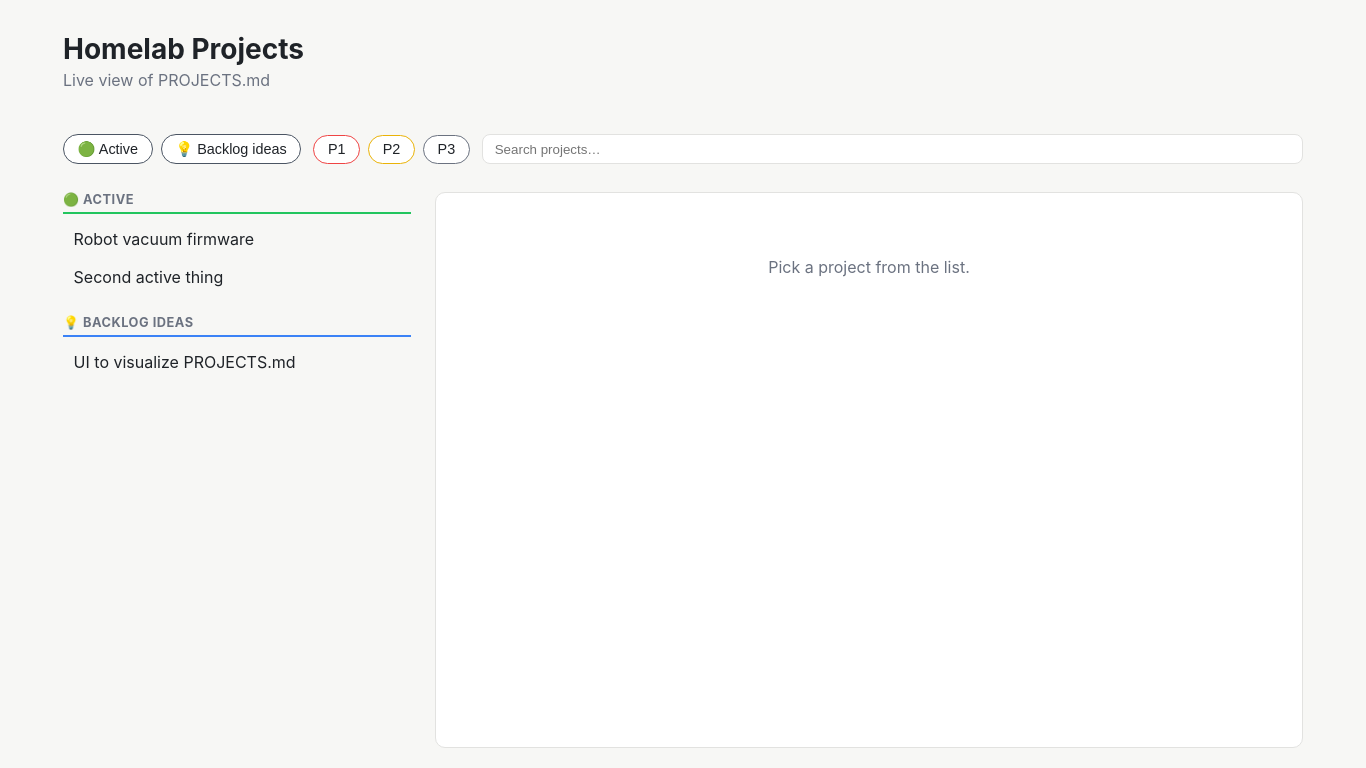
App › hides a status section entirely when its chip is toggled off
The width and height of the screenshot is (1366, 768).
Check: the text "Robot vacuum firmware" is shown, box [74,229,254,249]
Click the button "💡 Backlog ideas": x=231, y=149 [161,134,301,164]
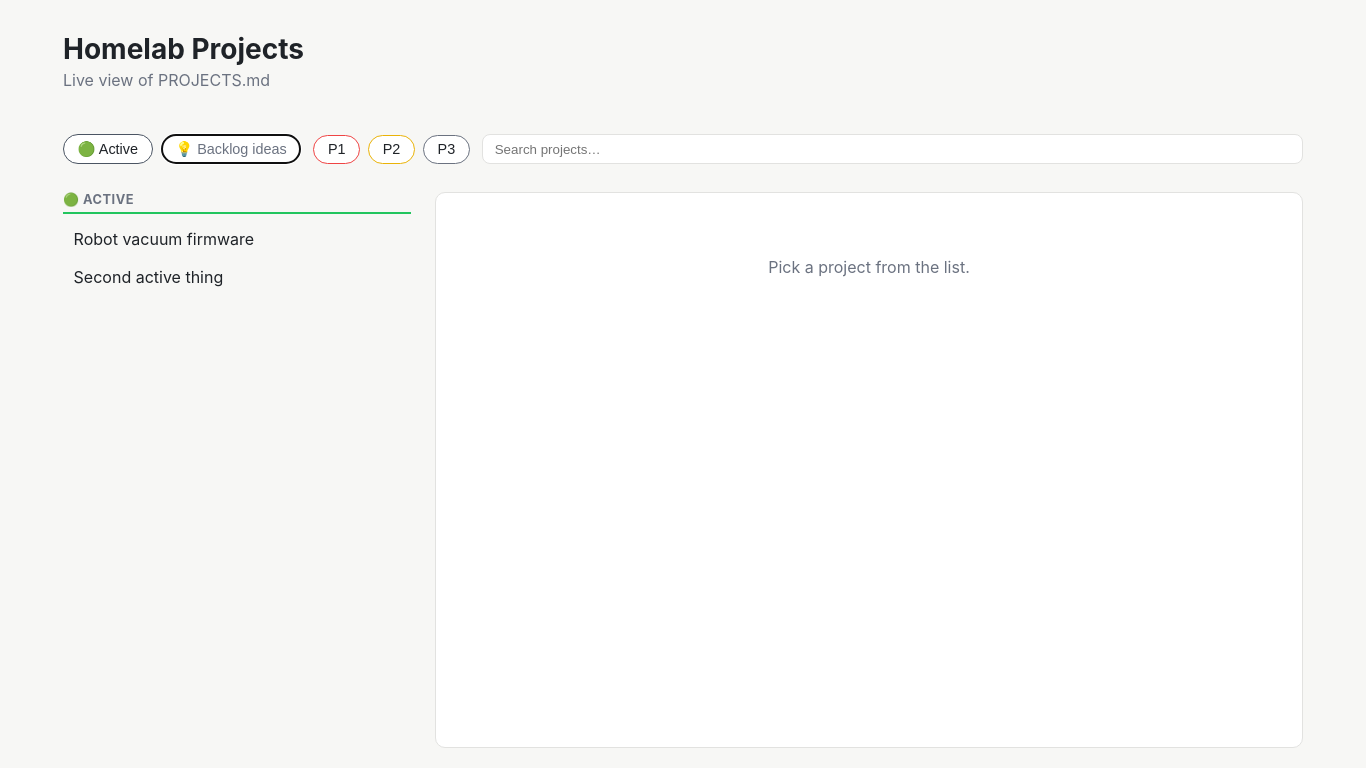
Check: the text "Robot vacuum firmware" is shown, box [74,229,254,249]
Check: the button "UI to visualize PROJECTS.md" is gone
